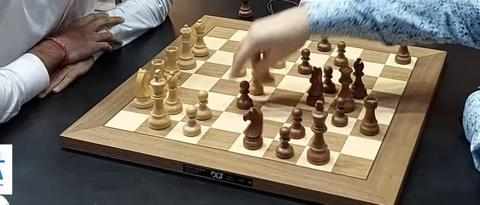xcorner: (348, 68, 354, 74), (215, 46, 221, 52), (221, 108, 227, 114), (356, 56, 361, 62), (302, 48, 308, 53), (251, 40, 257, 45), (226, 36, 232, 41), (312, 76, 317, 82), (355, 115, 360, 121), (234, 93, 239, 99), (205, 88, 211, 93), (177, 83, 183, 88), (282, 120, 288, 125), (163, 97, 168, 103), (337, 150, 343, 155), (239, 130, 244, 136), (208, 124, 213, 130), (177, 118, 182, 124), (383, 61, 388, 66), (329, 52, 334, 57), (277, 44, 282, 49), (377, 73, 382, 78), (321, 64, 326, 69), (294, 59, 299, 64), (267, 55, 272, 60), (241, 51, 246, 56), (370, 86, 375, 91), (341, 81, 346, 86), (284, 72, 289, 77), (257, 67, 262, 72), (230, 62, 235, 67), (204, 58, 209, 63), (363, 100, 368, 105), (333, 95, 338, 100), (303, 90, 308, 95), (274, 85, 279, 90), (246, 80, 251, 85), (218, 75, 223, 80), (191, 70, 196, 75), (324, 110, 329, 115), (293, 104, 298, 109), (263, 99, 268, 104), (347, 132, 352, 137), (314, 126, 319, 131), (252, 114, 257, 119), (192, 103, 197, 108), (304, 143, 309, 148), (271, 137, 276, 142), (147, 113, 152, 118)
